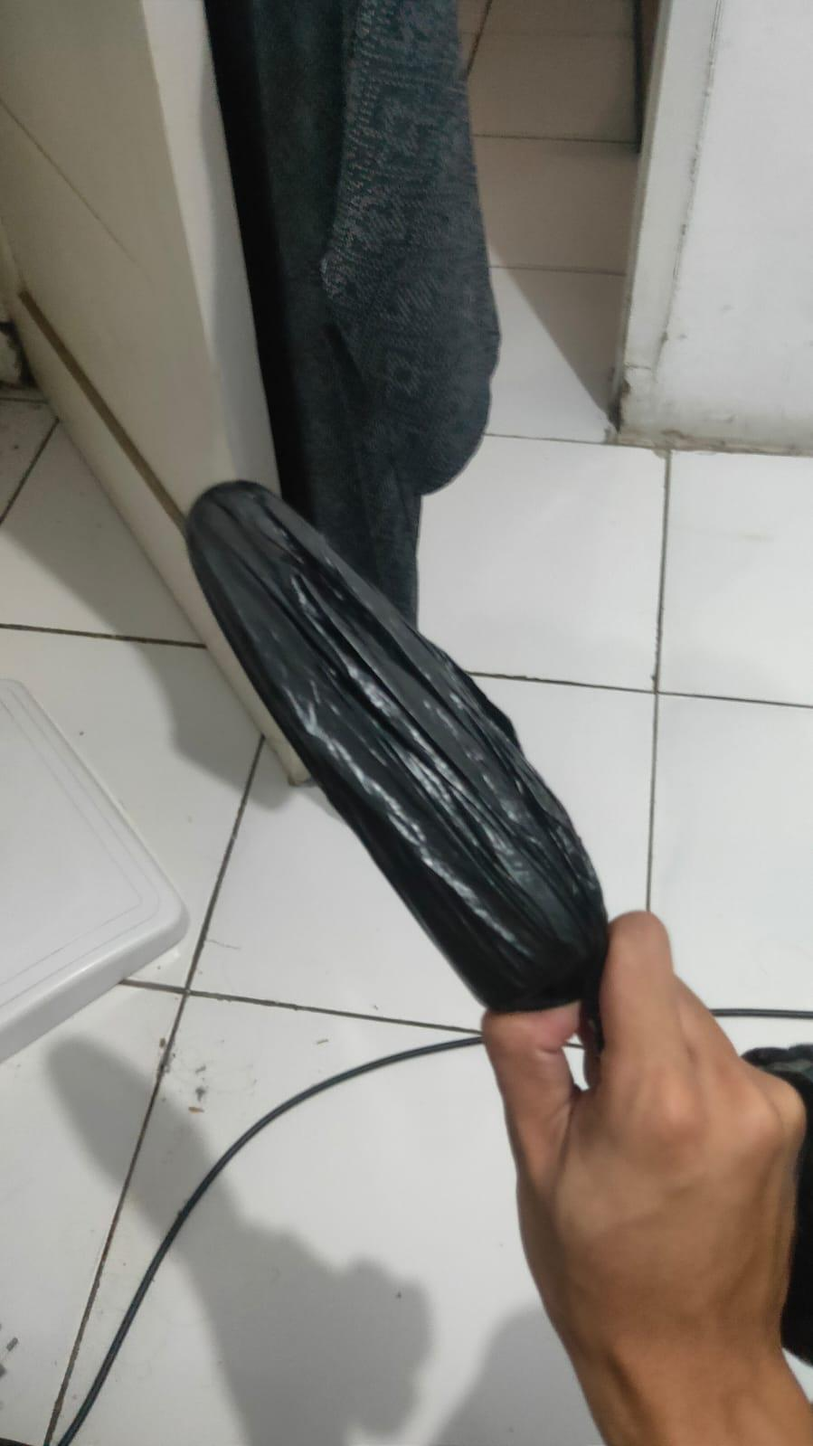undamaged: (163, 468, 623, 1021)
